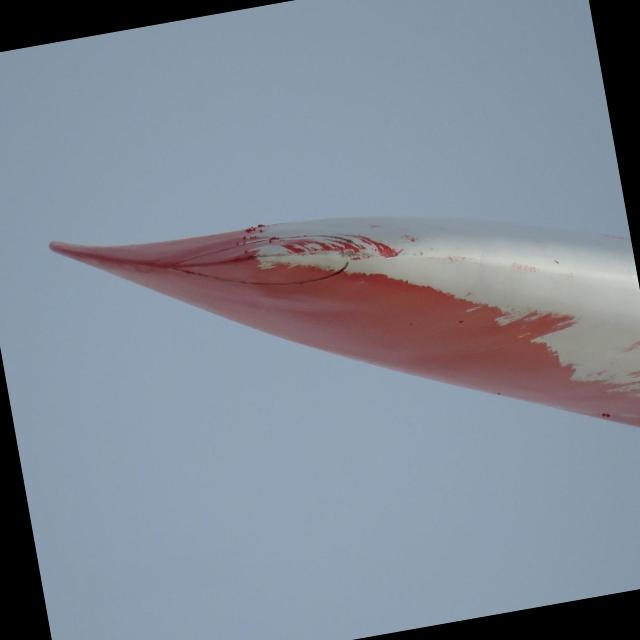surface_peeling: (239, 182, 492, 348), (488, 198, 640, 418)
